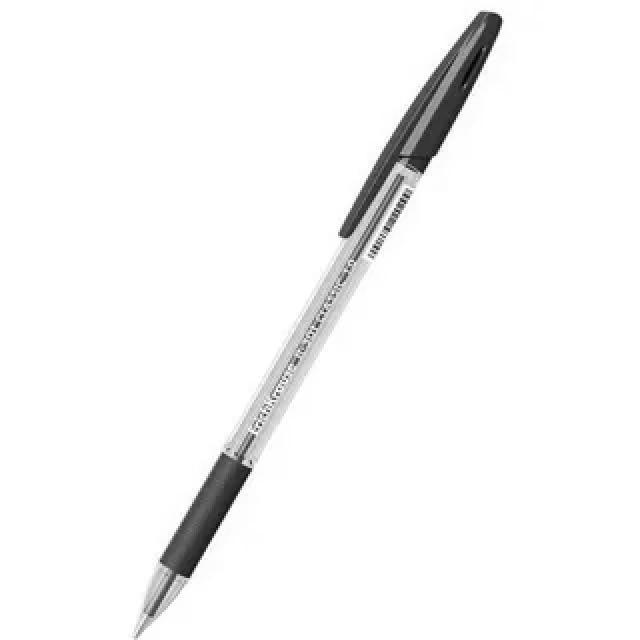pencil: (115, 1, 510, 640)
